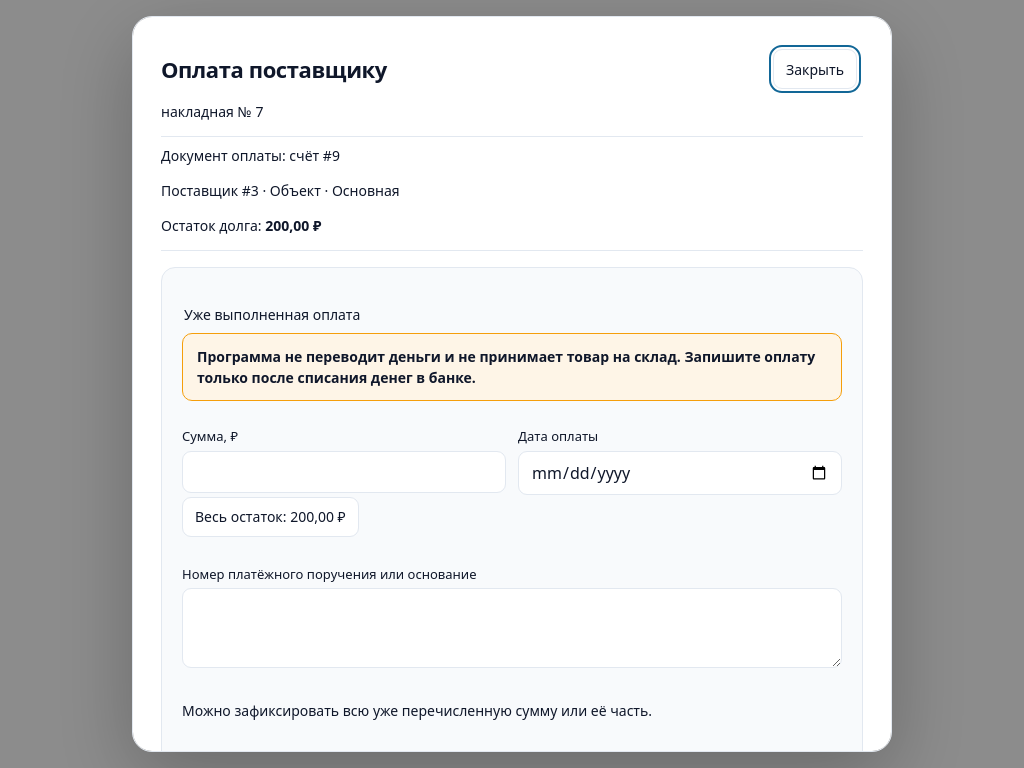
Test: fills the remaining debt without recording a payment or confirming a transfer
This screenshot has width=1024, height=768.
Click the button "Весь остаток: 200,00 ₽" at (270, 516), box [182,496,359,536]
(page scrolled)
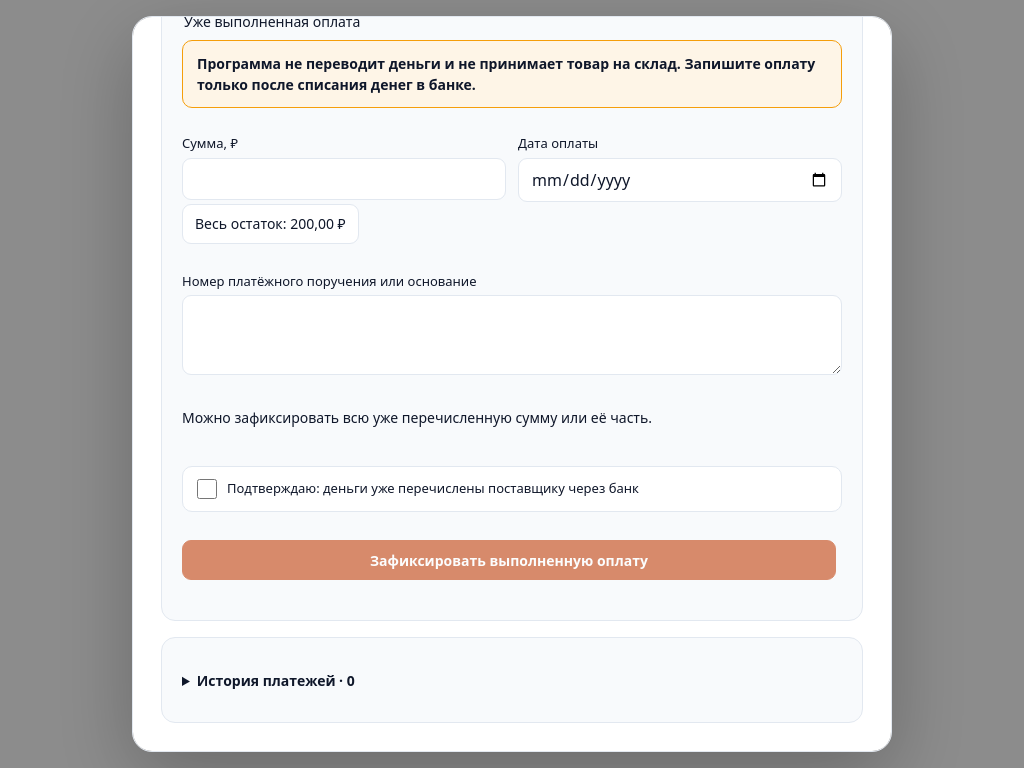
Expected: the checkbox labelled "Подтверждаю: деньги уже перечислены поставщику через банк" is not checked, [197,479,217,499]
